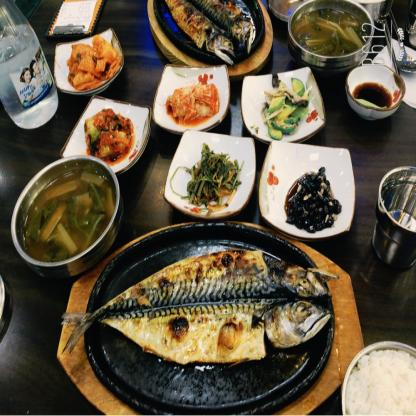Peixe: (59, 254, 353, 377)
